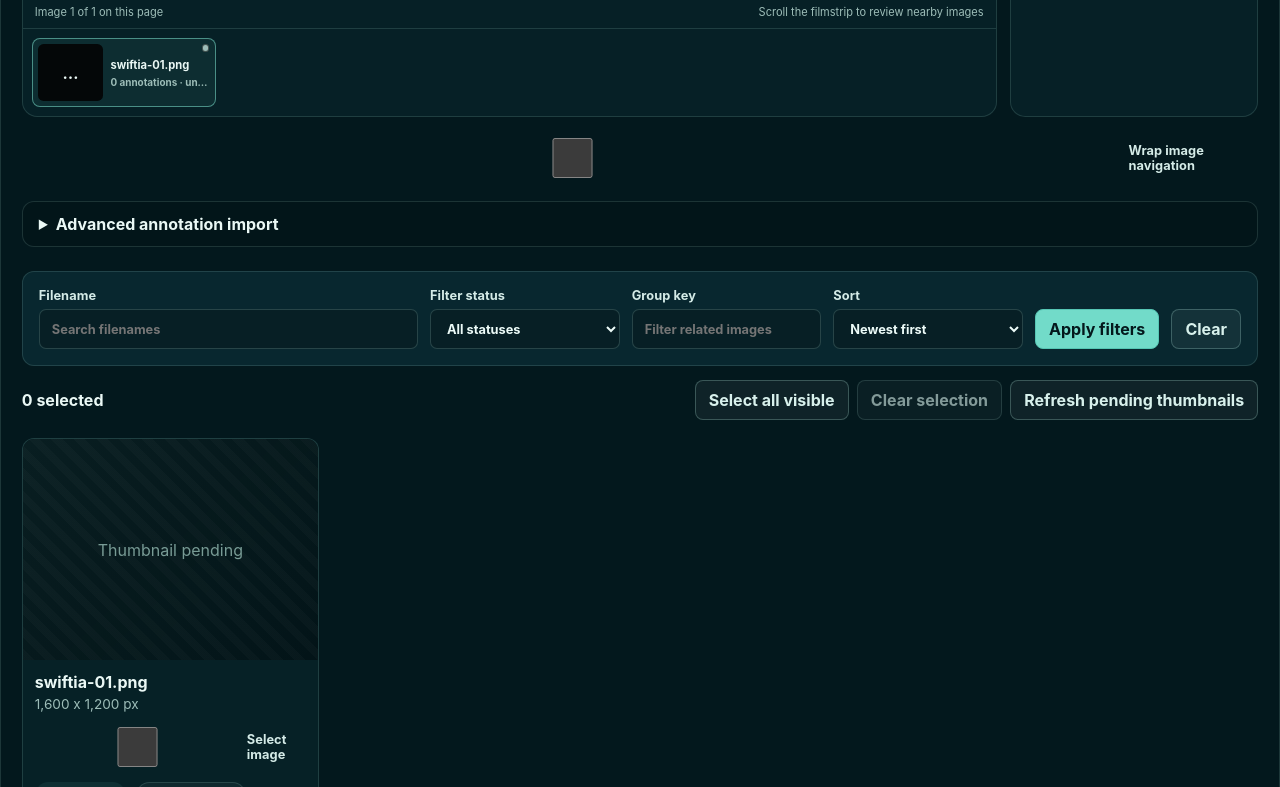
Test: Gallery pending thumbnail refresh › can refresh a pending image thumbnail without reimporting the original
(page scrolled)
Click the button "Refresh pending thumbnails": (1134, 400) [1010, 380, 1258, 420]
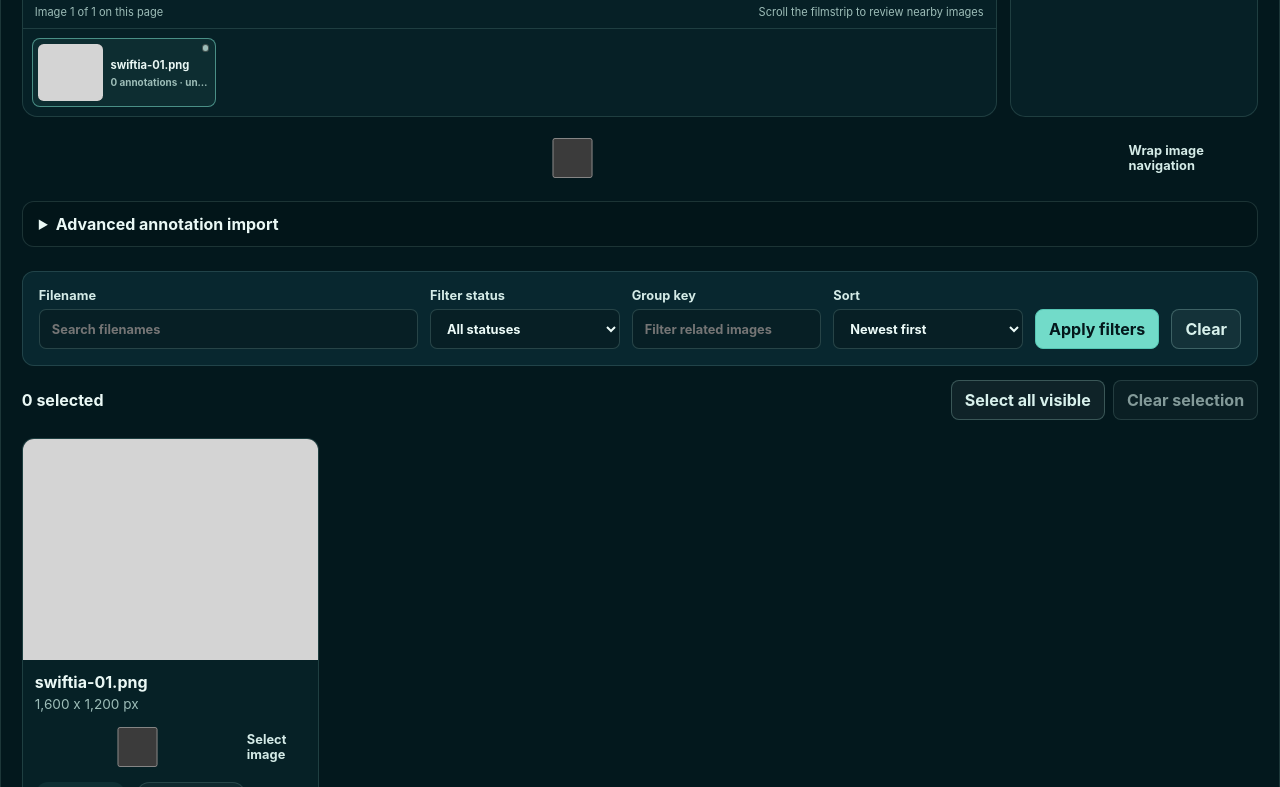
Result: the picture with alt text "Thumbnail of swiftia-01.png" is shown at [23, 439, 318, 660]
Result: the button "Refresh pending thumbnails" is gone
